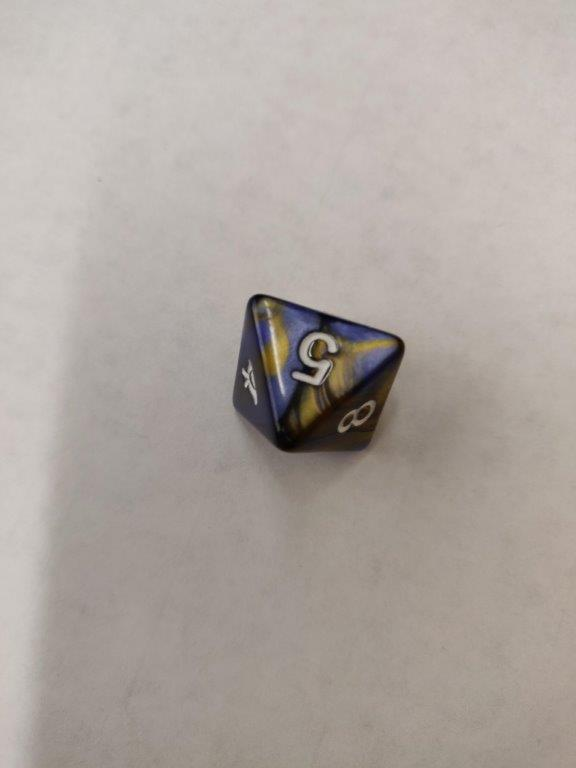d8-5: (231, 293, 408, 452)
